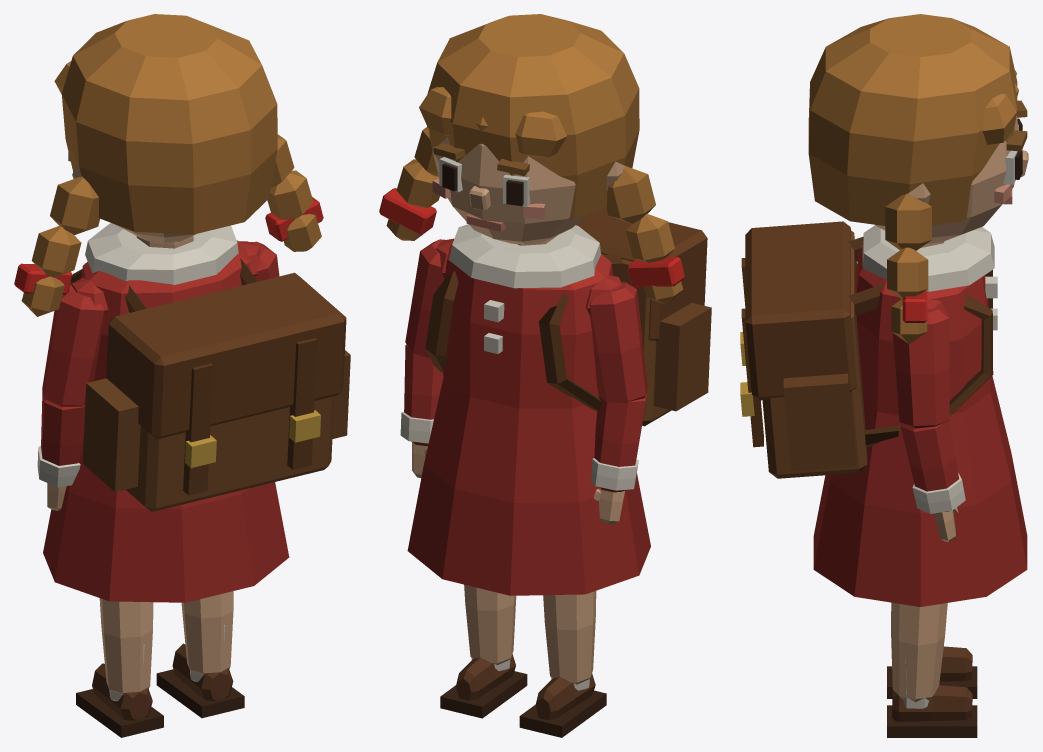
Rendered from chr_leni_bag.glb.
3 views of the same model, side by side, from view 1: azimuth 30°, elevation 25°; view 2: azimuth 150°, elevation 25°; view 3: azimuth 270°, elevation 25° (orthographic).
Parts seen in each view (by area): view 1: chr_leni_bag_stand; view 2: chr_leni_bag_stand; view 3: chr_leni_bag_stand.
Boxes of the visible parts, left/top/right/bottom form: chr_leni_bag_stand: left=14, top=14, right=350, bottom=737; chr_leni_bag_stand: left=379, top=14, right=711, bottom=737; chr_leni_bag_stand: left=740, top=14, right=1028, bottom=737.
Size of the model in its own units: 0.4883 by 1.05 by 0.4078.
